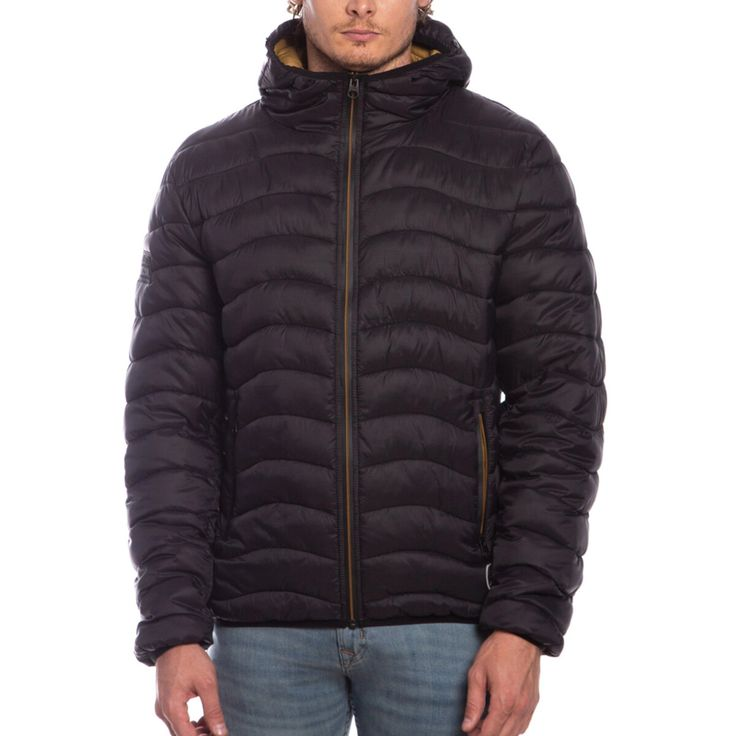nylon: (121, 13, 606, 661)
